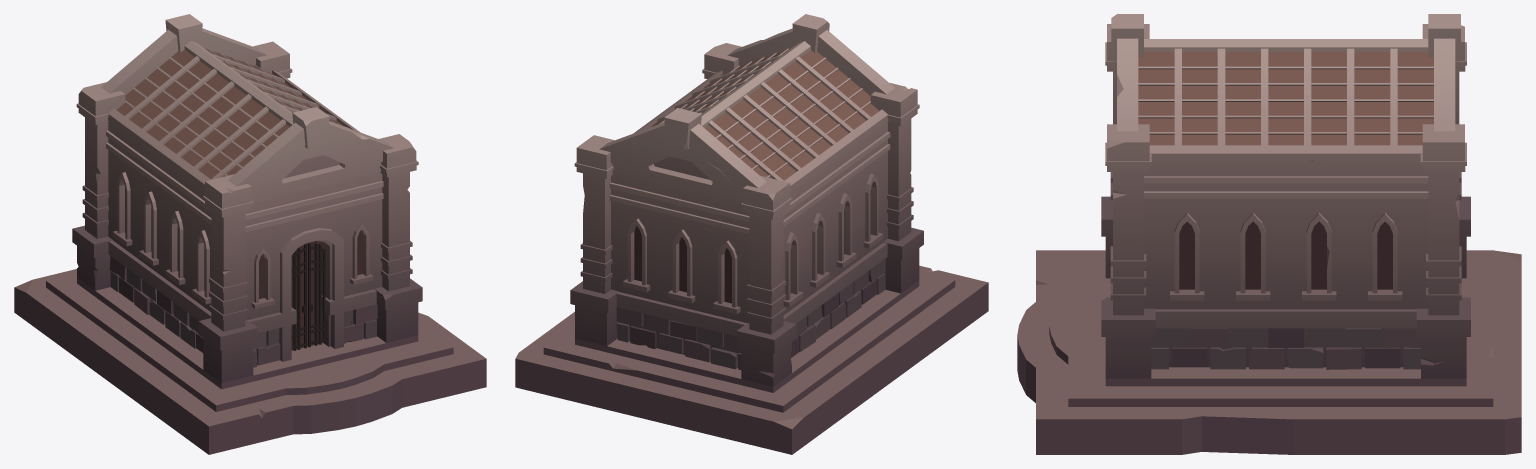
File: mausoleumLarge.glb
The picture shows the model from 3 angles, left to right: view 1: azimuth 30°, elevation 25°; view 2: azimuth 150°, elevation 25°; view 3: azimuth 270°, elevation 25°; orthographic projection. The views are drawn at different scales.
Visible parts, largest first — view 1: mausoleumLarge; view 2: mausoleumLarge; view 3: mausoleumLarge.
Boxes of the visible parts, left/top/right/bottom form: mausoleumLarge: left=14, top=14, right=486, bottom=454; mausoleumLarge: left=515, top=14, right=988, bottom=454; mausoleumLarge: left=1017, top=14, right=1521, bottom=454.
Bounding box in the file's own units: 7.32 × 7.04 × 9.22.
Materials: 1 (1 with a texture image).
